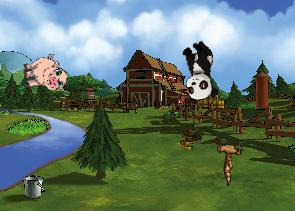eagle: (200, 127, 256, 186)
panda: (178, 39, 219, 103)
pig: (20, 52, 68, 97)
